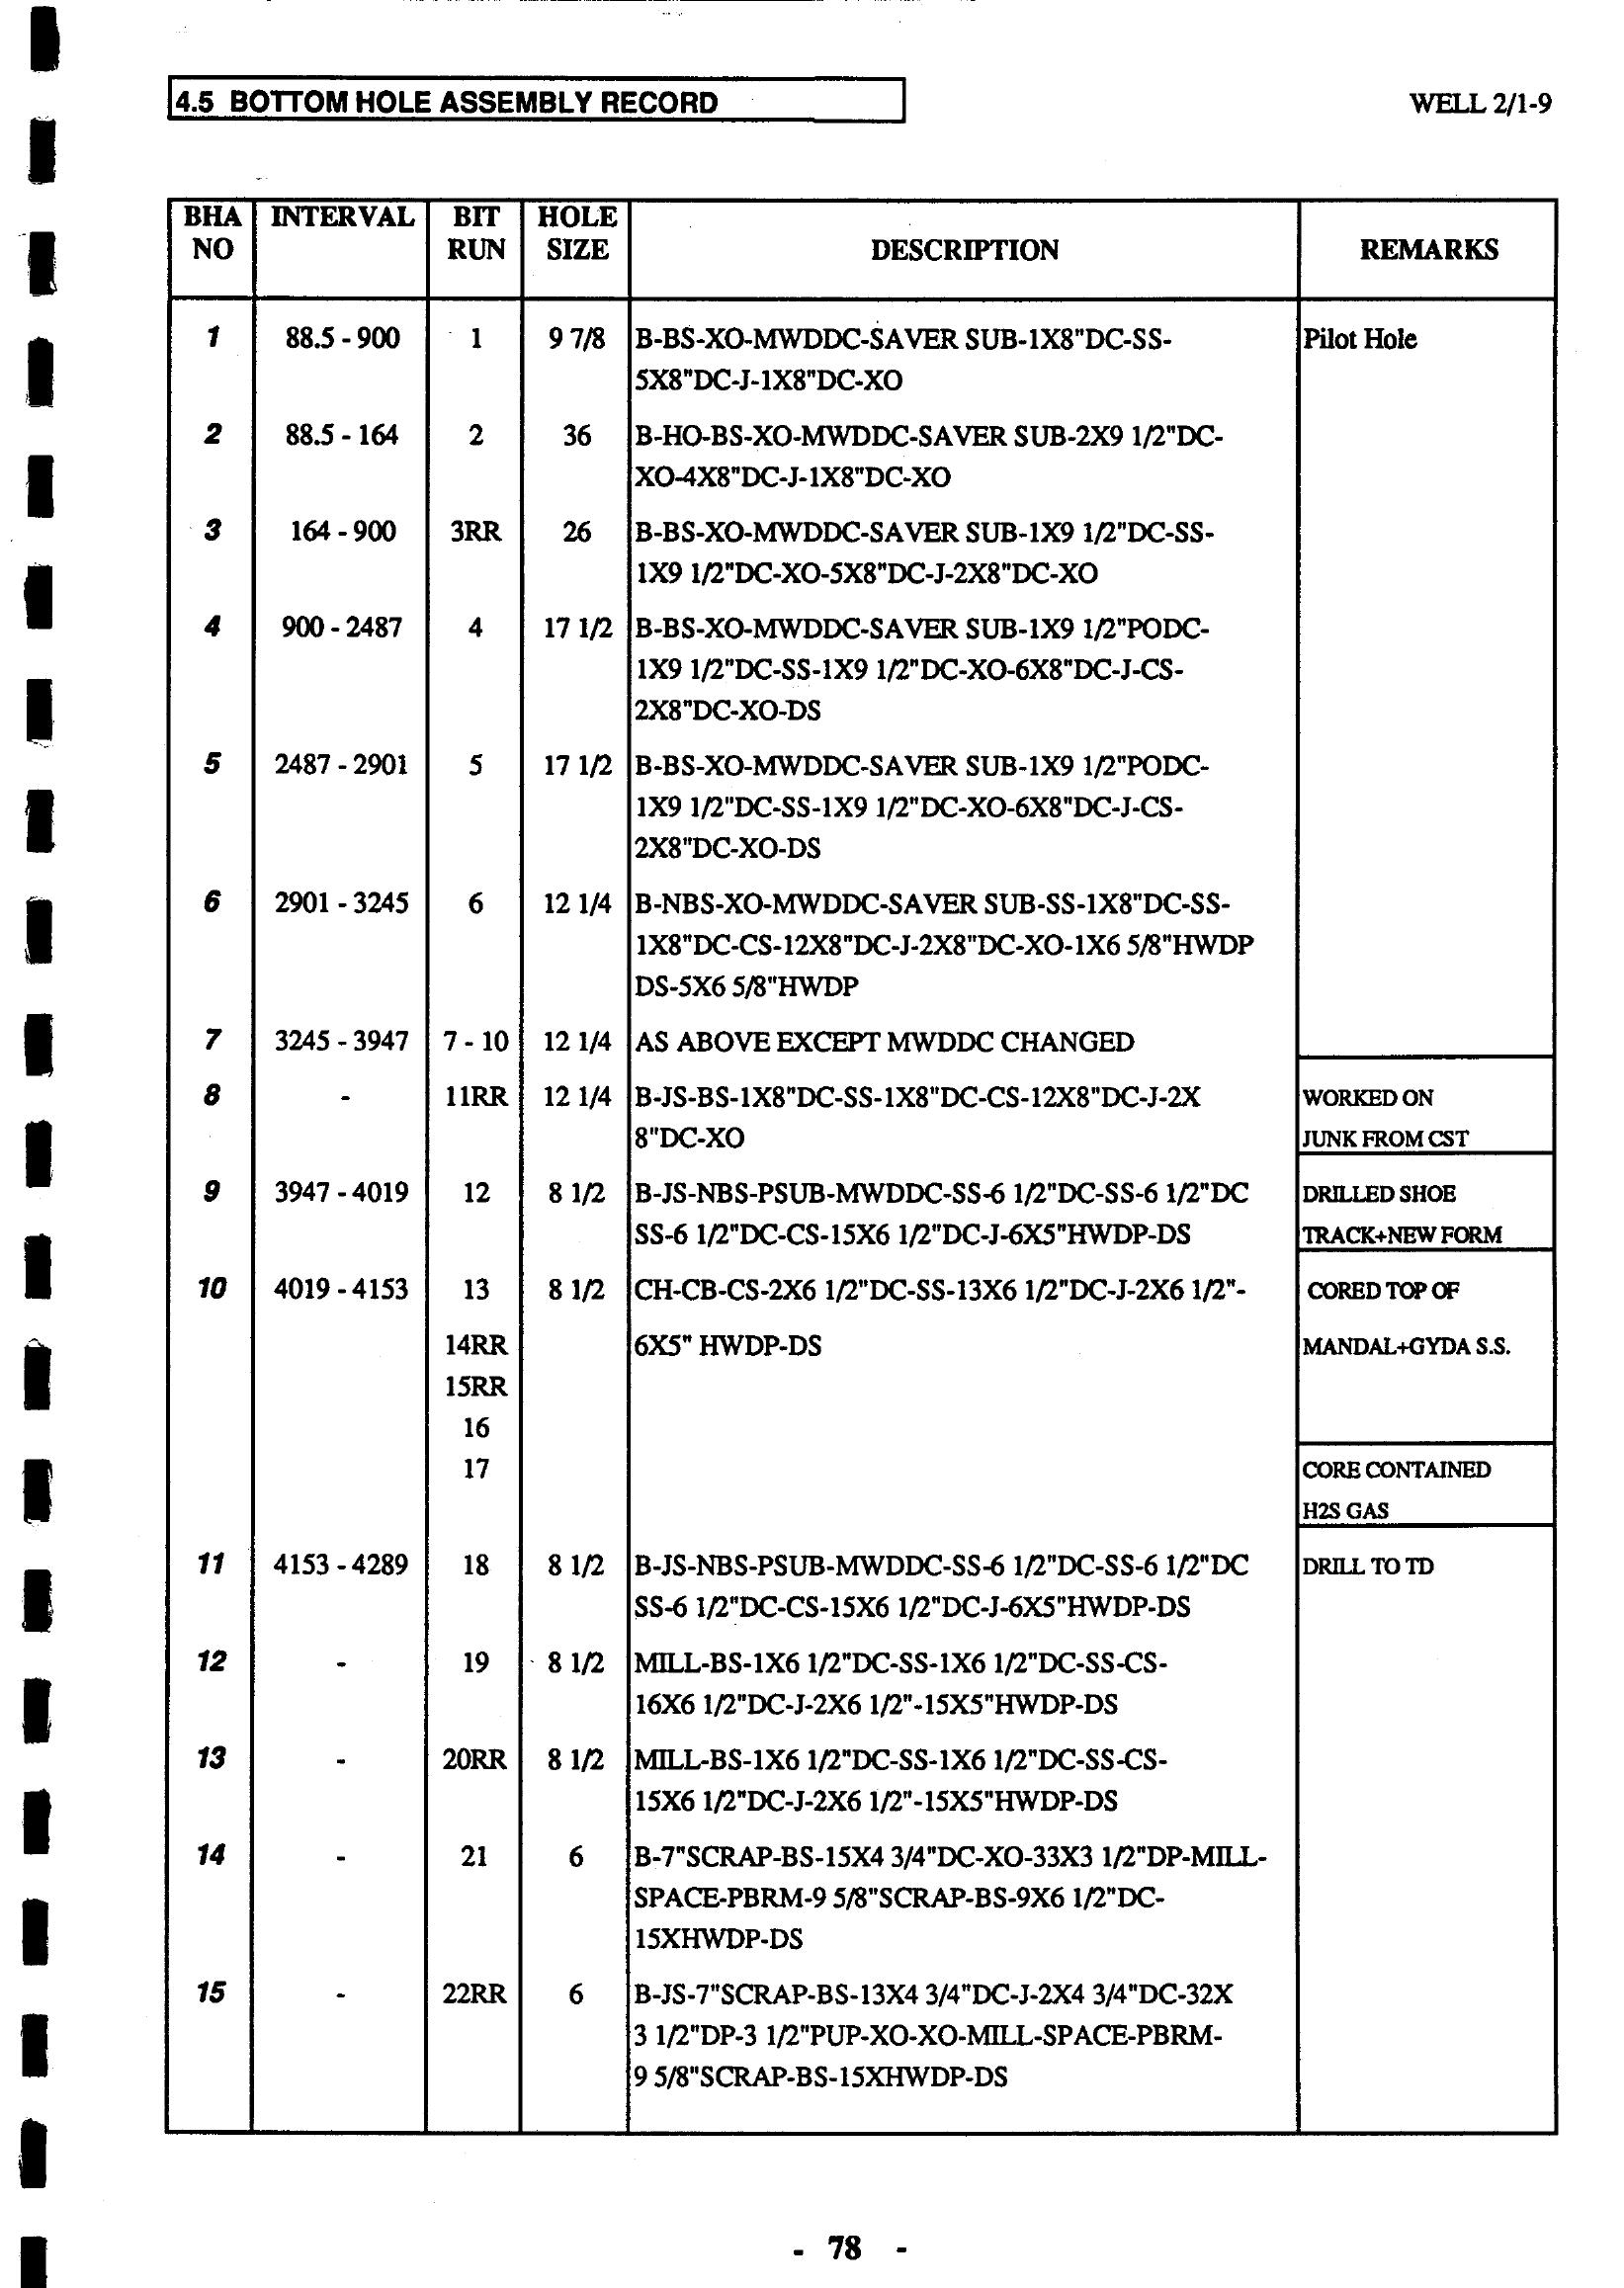table: (142, 172, 1575, 2179)
